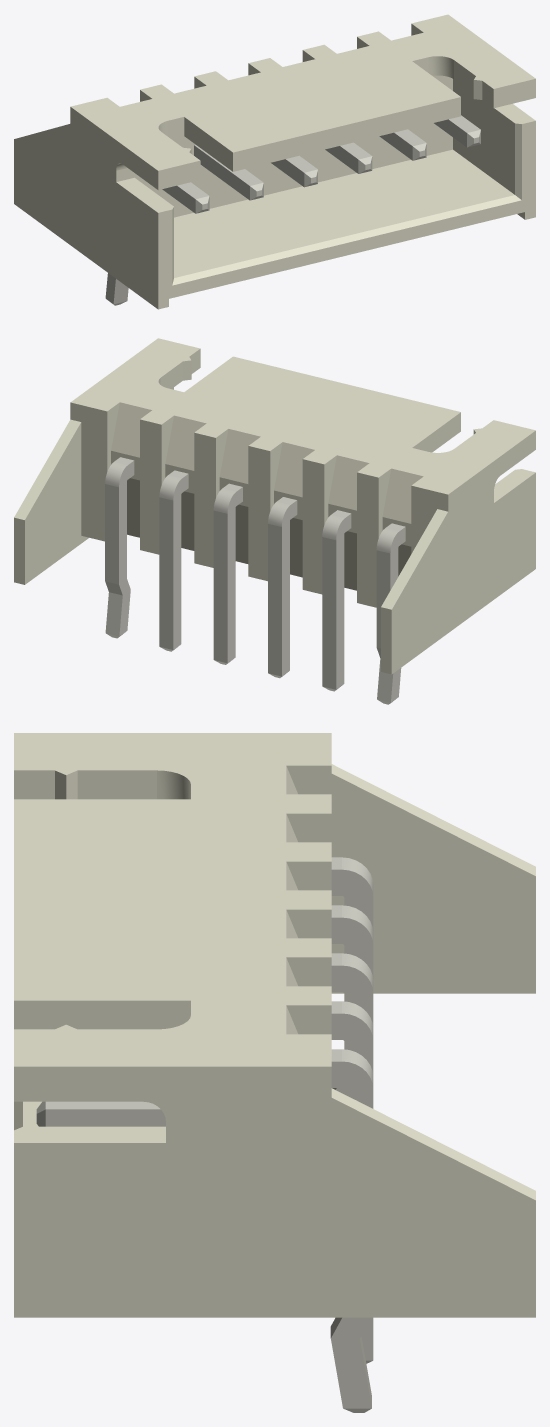
File: kc-jst_xh_s6b-xh-a-1_1x06_p2.50mm_horizontal.glb
3 views of the same model, one above another, from view 1: azimuth 30°, elevation 25°; view 2: azimuth 150°, elevation 25°; view 3: azimuth 270°, elevation 25° (orthographic). The views are drawn at different scales.
Visible parts, largest first — view 1: 0.75_0.75_0.5833333333333334_0, 0.6666666666666666_0.6666666666666666_0.5833333333333334_0.8; view 2: 0.75_0.75_0.5833333333333334_0, 0.6666666666666666_0.6666666666666666_0.5833333333333334_0.8; view 3: 0.75_0.75_0.5833333333333334_0, 0.6666666666666666_0.6666666666666666_0.5833333333333334_0.8.
Boxes of the visible parts, x1,y1,x2,y2 form: 0.75_0.75_0.5833333333333334_0: (14,14,535,309); 0.6666666666666666_0.6666666666666666_0.5833333333333334_0.8: (105,115,480,305); 0.75_0.75_0.5833333333333334_0: (14,338,535,674); 0.6666666666666666_0.6666666666666666_0.5833333333333334_0.8: (105,457,405,704); 0.75_0.75_0.5833333333333334_0: (14,733,535,1317); 0.6666666666666666_0.6666666666666666_0.5833333333333334_0.8: (36,857,373,1412).
Bounding box in the file's own units: 1.74 × 0.9501 × 1.15.
